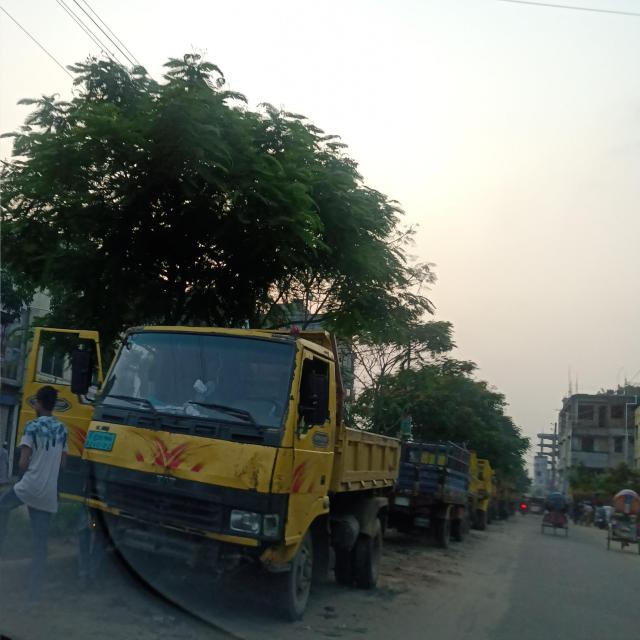truck: (24, 308, 400, 620), (402, 437, 480, 537)
